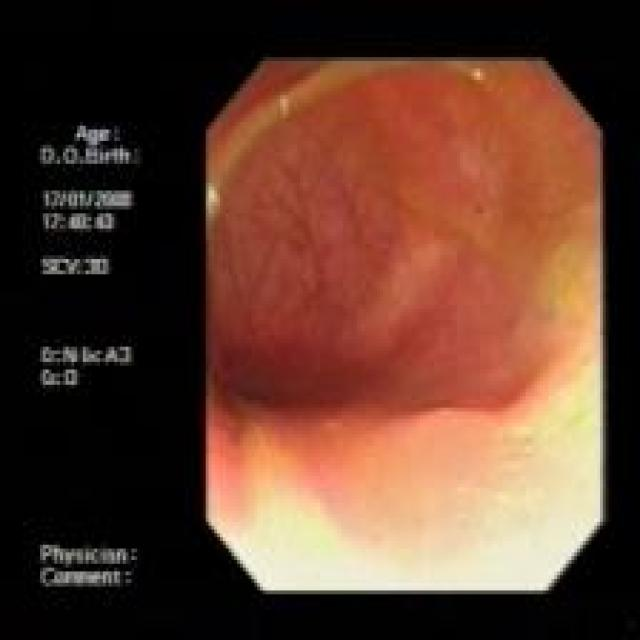color misalignment: (33, 120, 148, 592)
contrast: (231, 361, 282, 409)
saturation: (207, 434, 605, 592), (421, 360, 602, 434)
